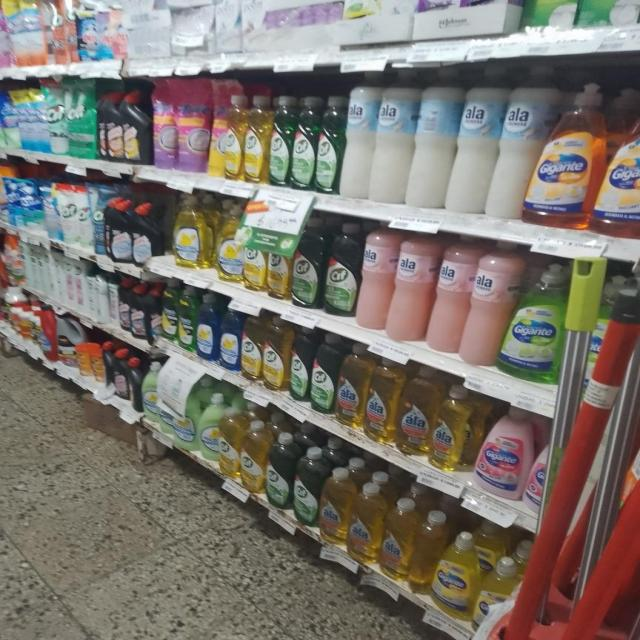ala_conc_amarillo: (431, 385, 473, 472), (397, 366, 431, 457), (349, 478, 381, 564), (366, 356, 396, 444), (336, 344, 364, 428)
ala_crem_blanco: (455, 67, 499, 217), (497, 66, 538, 220), (412, 68, 454, 212), (374, 71, 412, 206), (343, 74, 373, 200)
ala_crem_rosado: (466, 245, 505, 367), (390, 232, 430, 344), (430, 240, 466, 356), (359, 223, 392, 332)
cif_conc_bot_amarilla: (212, 91, 244, 182), (244, 94, 269, 185), (263, 314, 288, 393), (242, 310, 262, 382)
cif_conc_botella_verde: (325, 220, 358, 319), (292, 216, 324, 310), (317, 94, 342, 195), (292, 95, 316, 192), (293, 446, 320, 526), (266, 431, 292, 511), (270, 94, 292, 188), (311, 332, 336, 414), (290, 325, 310, 404)
gigante: (531, 80, 598, 228), (598, 83, 640, 238)
magistral_con_amarillo: (172, 192, 212, 270)
magistral_con_azul: (197, 293, 218, 363), (220, 300, 240, 372)
